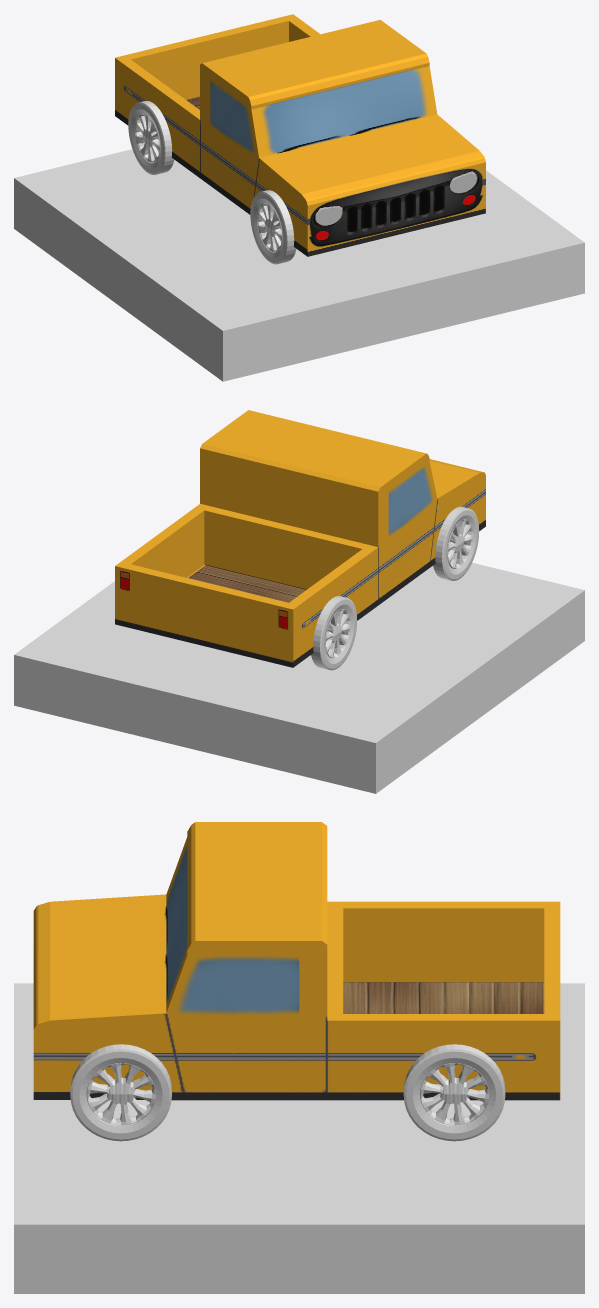
File: carUnity.fbx
3 renders of one model, top to bottom at view 1: azimuth 30°, elevation 25°; view 2: azimuth 150°, elevation 25°; view 3: azimuth 270°, elevation 25°, orthographic. The views are drawn at different scales.
Visible parts, largest first — view 1: Cube, Cube.001, Circle.007, Circle.005, Circle.004, Circle.006; view 2: Cube, Cube.001, Circle.005, Circle.007, Circle.006, Circle.004; view 3: Cube, Cube.001, Circle.003, Circle.001, Circle, Circle.002.
Boxes of the visible parts, bbox=[...] form: Cube: bbox=[14, 149, 584, 381]; Cube.001: bbox=[115, 14, 485, 256]; Circle.007: bbox=[250, 190, 296, 264]; Circle.005: bbox=[128, 101, 174, 174]; Circle.004: bbox=[134, 113, 160, 162]; Circle.006: bbox=[257, 203, 282, 252]; Cube: bbox=[14, 562, 584, 793]; Cube.001: bbox=[115, 410, 485, 667]; Circle.005: bbox=[311, 596, 357, 670]; Circle.007: bbox=[433, 506, 479, 580]; Circle.006: bbox=[447, 519, 472, 568]; Circle.004: bbox=[325, 609, 350, 658]; Cube: bbox=[14, 983, 584, 1293]; Cube.001: bbox=[33, 822, 560, 1100]; Circle.003: bbox=[70, 1044, 171, 1141]; Circle.001: bbox=[403, 1044, 505, 1141]; Circle: bbox=[420, 1063, 489, 1125]; Circle.002: bbox=[86, 1063, 155, 1125].
Bounding box in the file's own units: 100 × 56.4 × 100.
1 material, 1 textured.
